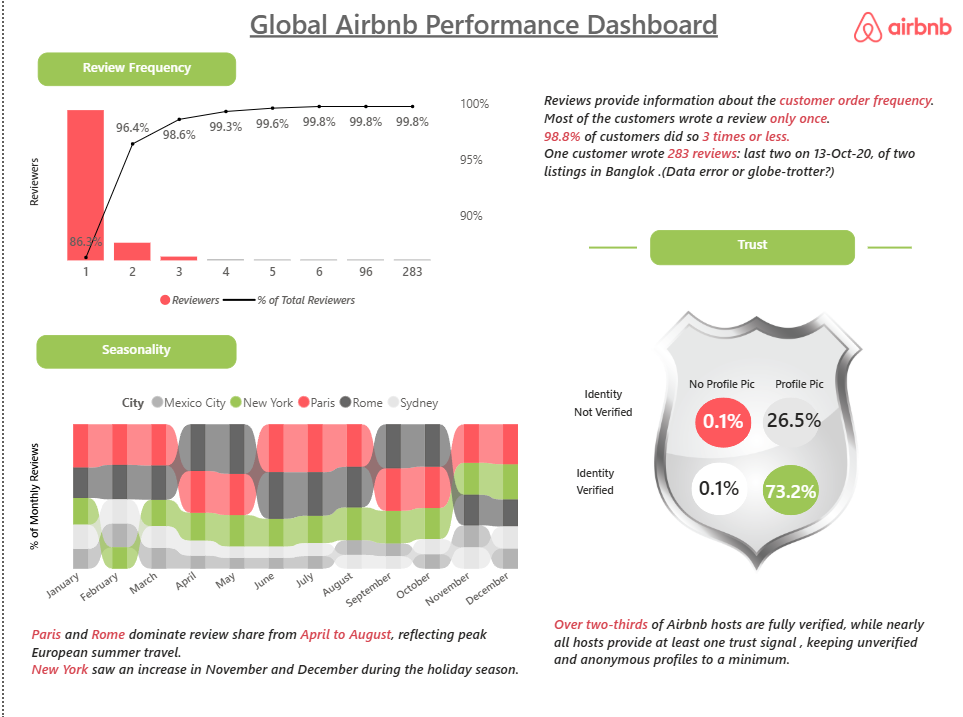

The page's visual inventory and layout, read from the dashboard file:
{"tool":"powerbi","page":{"name":"Reviews","canvas":[960,720],"ordinal":2},"visuals":[{"type":"textbox","box":[216.4,0,527.2,53.1],"z":0},{"type":"image","box":[849.4,8.6,97.5,37],"z":1000},{"type":"textbox","box":[33.3,52.6,198.7,33.3],"z":2000},{"type":"textbox","box":[535.1,85.7,410.4,133.8],"z":3000},{"type":"textbox","box":[646.8,229.9,205.2,35.1],"z":5000},{"type":"shape","box":[584.4,179.2,48.1,137.7],"z":6000},{"type":"shape","box":[863.6,179.2,44.2,137.7],"z":7000},{"type":"textbox","box":[545.5,610.4,388.3,64.9],"z":8000},{"type":"image","box":[545,241,415,403],"z":9000},{"type":"shape","box":[690.9,397.4,56.3,50.1],"z":10000},{"type":"shape","box":[758.2,397.4,56.3,50.1],"z":11000},{"type":"shape","box":[758.2,464.7,56.3,50.1],"z":12000},{"type":"shape","box":[687.2,462.2,56.3,52.6],"z":13000},{"type":"textbox","box":[554,379,91,50],"z":14000},{"type":"textbox","box":[568,457,65,47],"z":15000},{"type":"textbox","box":[679.9,369.3,79.5,31.8],"z":16000},{"type":"textbox","box":[766.7,369.3,85.6,48.9],"z":17000},{"type":"cardVisual","fields":{"Data":["Listings.Verified_Profile %"]},"box":[722.7,457.3,129.6,64.8],"z":18000},{"type":"cardVisual","fields":{"Data":["Listings.Verified_NoProfile %"]},"box":[661.6,457.3,108.8,57.5],"z":19000},{"type":"cardVisual","fields":{"Data":["Listings.NotVerified_Profile %"]},"box":[731.3,391.3,118.6,53.8],"z":20000},{"type":"cardVisual","fields":{"Data":["Listings.NotVerified_NoProfile %"]},"box":[662.8,386.4,114.9,64.8],"z":21000},{"type":"ribbonChart","fields":{"Series":["Listings.city"],"Category":["Reviews.date.Variation.Date Hierarchy.Month"],"Y":["Reviews.% of Monthly Reviews"]},"box":[20.8,383.1,514.3,236.4],"z":22000},{"type":"textbox","box":[22.1,619.5,513,77.9],"z":23000},{"type":"lineStackedColumnComboChart","fields":{"Category":["Reviews.Reviews per Reviewer"],"Y":["Reviews.Reviewers"],"Y2":["Reviews.Cumulative % review frequency"]},"box":[20.8,89.6,468.8,227.3],"z":24000},{"type":"textbox","box":[32.5,335.1,200,33.8],"z":25000}]}

Visuals, with their boxes in screenshot pixels (x1, y1, x2, y2), scaled from the page's 960x720 canvas onto the 963x717 screenshot:
textbox: <region>217, 0, 746, 53</region>
image: <region>852, 9, 950, 45</region>
textbox: <region>33, 52, 233, 86</region>
textbox: <region>537, 85, 948, 219</region>
textbox: <region>649, 229, 855, 264</region>
shape: <region>586, 178, 634, 316</region>
shape: <region>866, 178, 911, 316</region>
textbox: <region>547, 608, 937, 672</region>
image: <region>547, 240, 962, 641</region>
shape: <region>693, 396, 750, 446</region>
shape: <region>761, 396, 817, 446</region>
shape: <region>761, 463, 817, 513</region>
shape: <region>689, 460, 746, 513</region>
textbox: <region>556, 377, 647, 427</region>
textbox: <region>570, 455, 635, 502</region>
textbox: <region>682, 368, 762, 399</region>
textbox: <region>769, 368, 855, 416</region>
cardVisual - Listings.Verified_Profile %: <region>725, 455, 855, 520</region>
cardVisual - Listings.Verified_NoProfile %: <region>664, 455, 773, 513</region>
cardVisual - Listings.NotVerified_Profile %: <region>734, 390, 853, 443</region>
cardVisual - Listings.NotVerified_NoProfile %: <region>665, 385, 780, 449</region>
ribbonChart - Listings.city x Reviews.date.Variation.Date Hierarchy.Month: <region>21, 382, 537, 617</region>
textbox: <region>22, 617, 537, 694</region>
lineStackedColumnComboChart - Reviews.Reviews per Reviewer x Reviews.Reviewers: <region>21, 89, 491, 316</region>
textbox: <region>33, 334, 233, 367</region>
